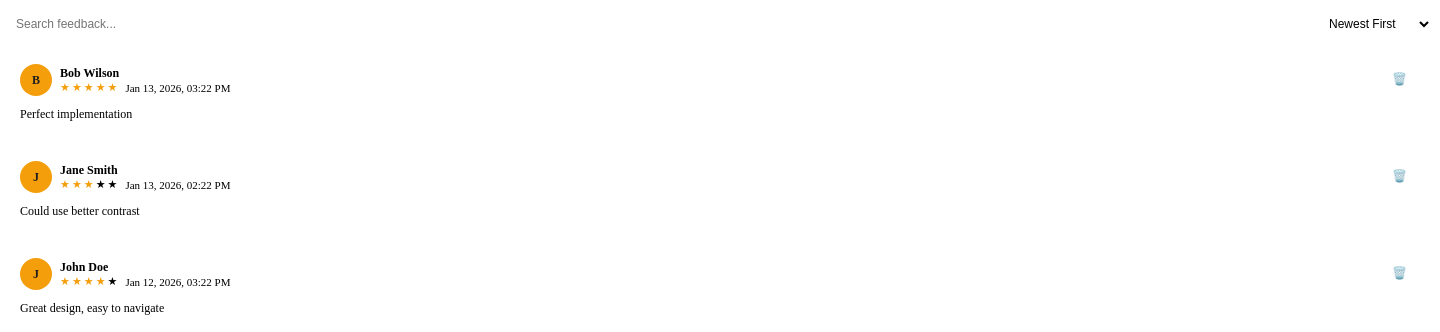
Test: FeedbackHistory › shows no matches message when search has no results
Type "xyz123" into the field with placeholder "Search feedback..." at (656, 24), box 8,8 -> 1305,40
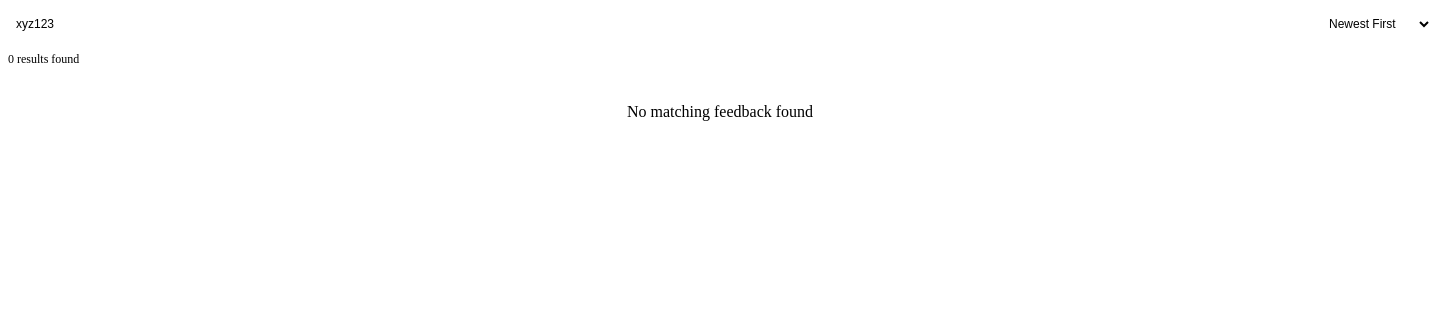
Expected: the text "No matching feedback found" is shown, 627,103 -> 813,120
